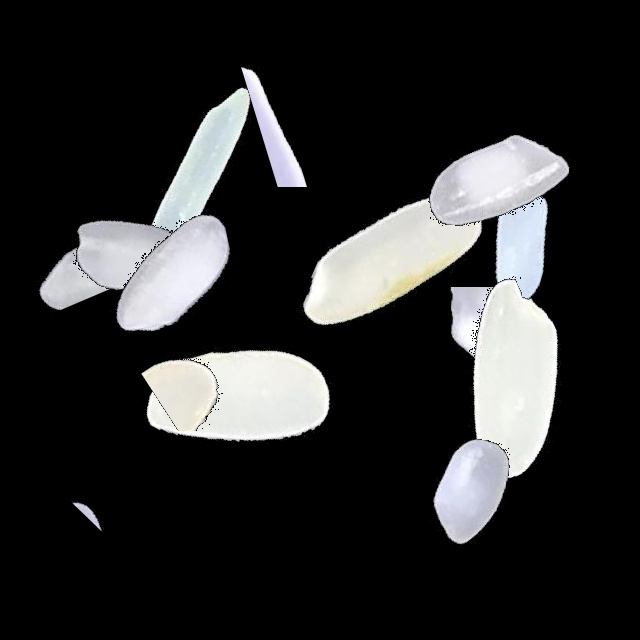Broken: (373, 287, 623, 451), (399, 102, 562, 352), (17, 98, 155, 348), (197, 65, 447, 187), (7, 462, 257, 544), (366, 491, 616, 573), (75, 349, 325, 431)
Full: (77, 51, 327, 301), (118, 274, 368, 524), (384, 252, 634, 502), (269, 136, 519, 386), (373, 57, 623, 307), (11, 134, 261, 384), (346, 365, 596, 615), (45, 150, 295, 400)
